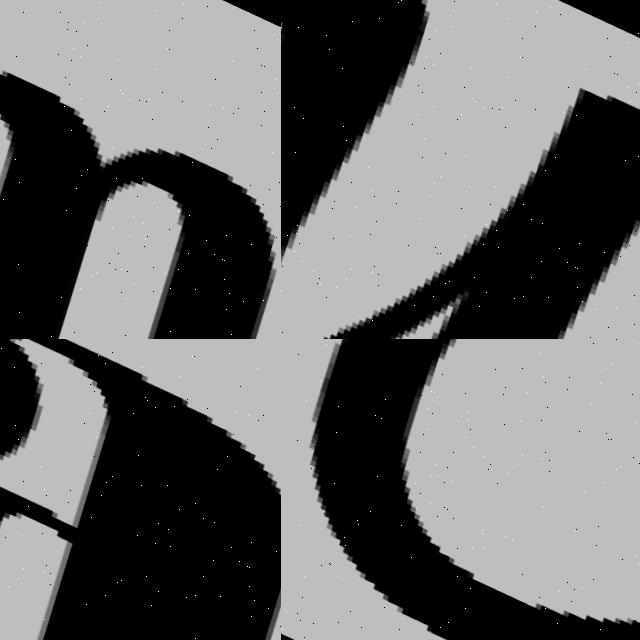A: (0, 339, 281, 640)
C: (300, 339, 640, 640)
M: (0, 0, 281, 339)
U: (281, 0, 640, 339)
